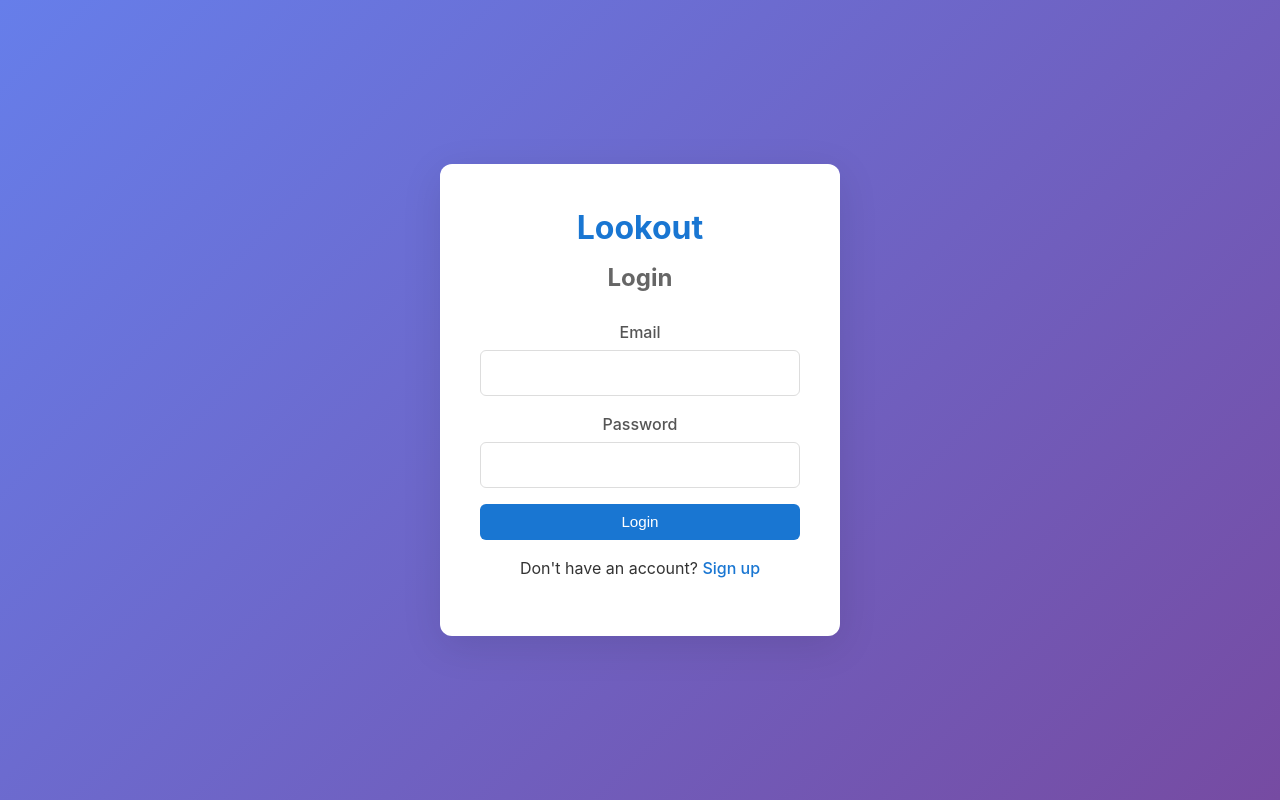
Scenario: LoginPage › should display generic error message when no detail provided
The image size is (1280, 800).
Type "test@example.com" into the field labelled "Email" at (640, 373), box [480,350,800,396]
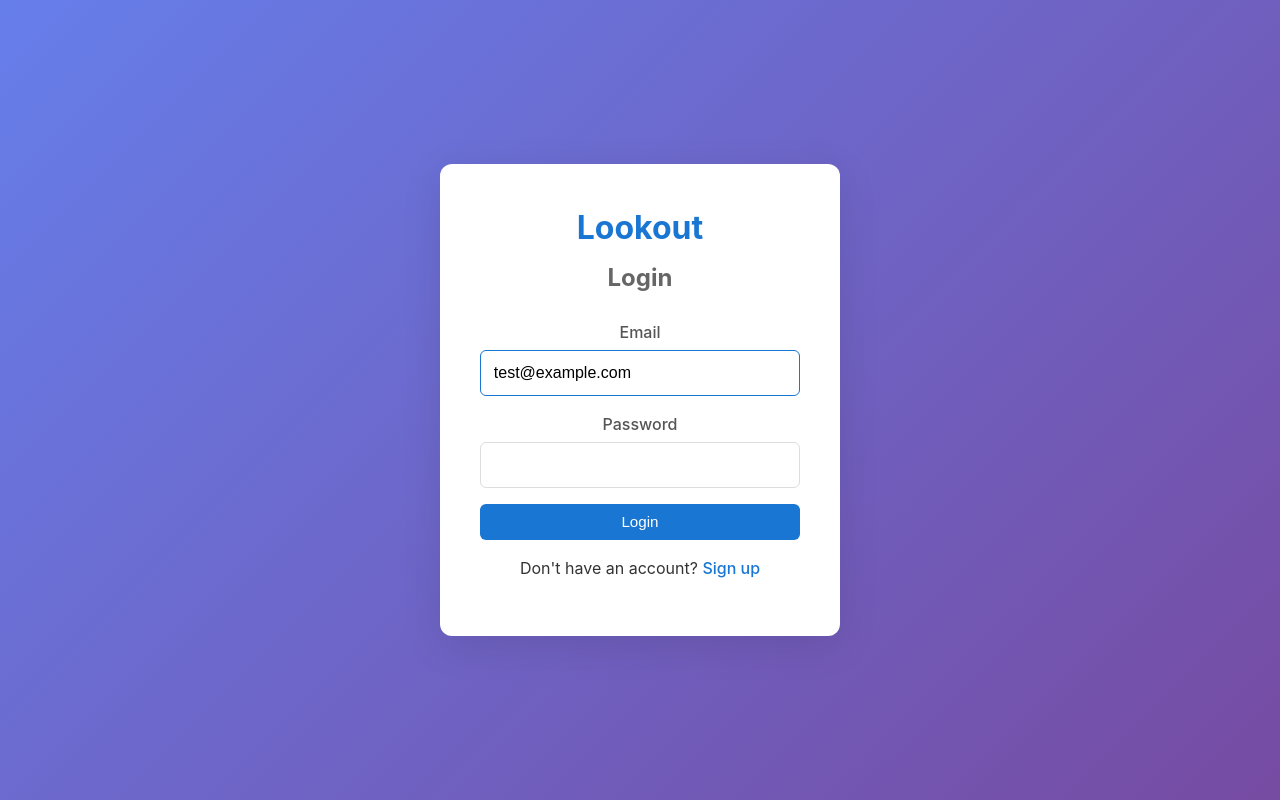
Type "password123" into the password field labelled "Password" at (640, 465), box [480,442,800,488]
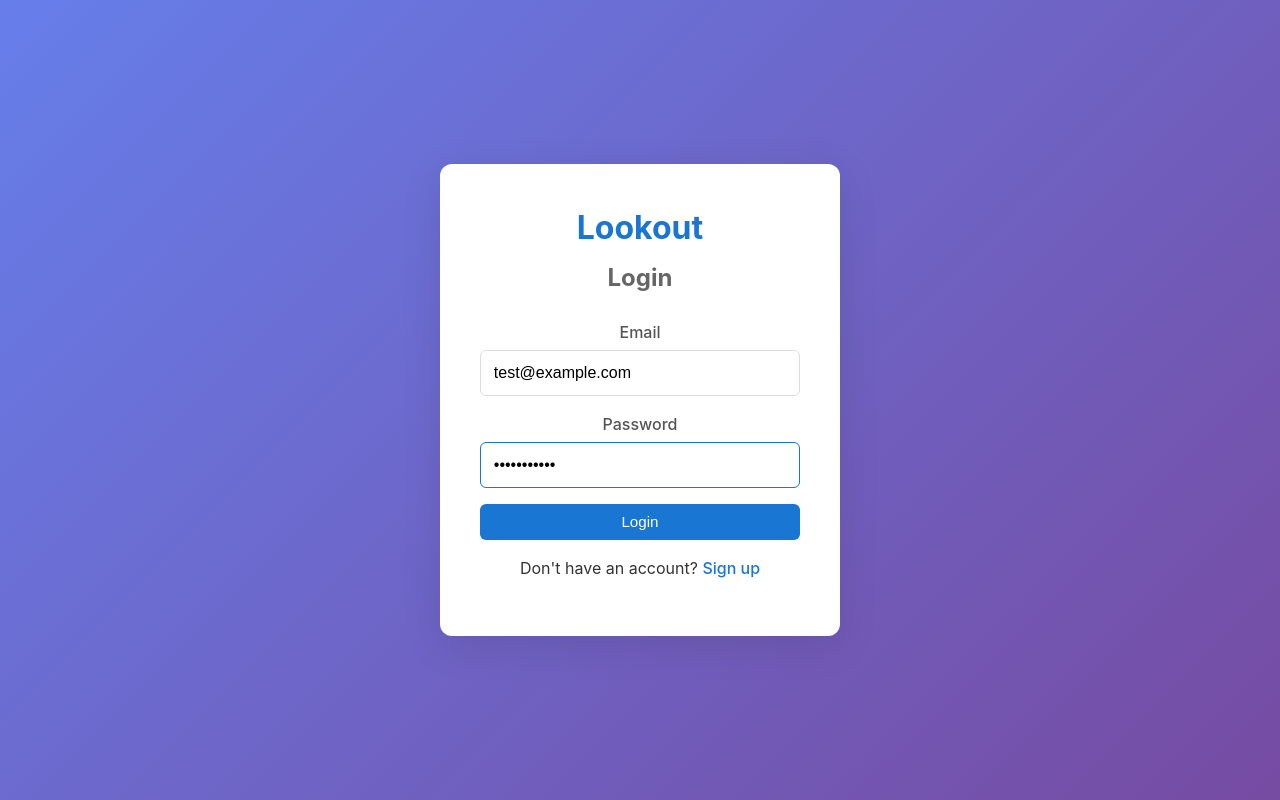
Click the button "Login" at (640, 522), box [480,504,800,540]
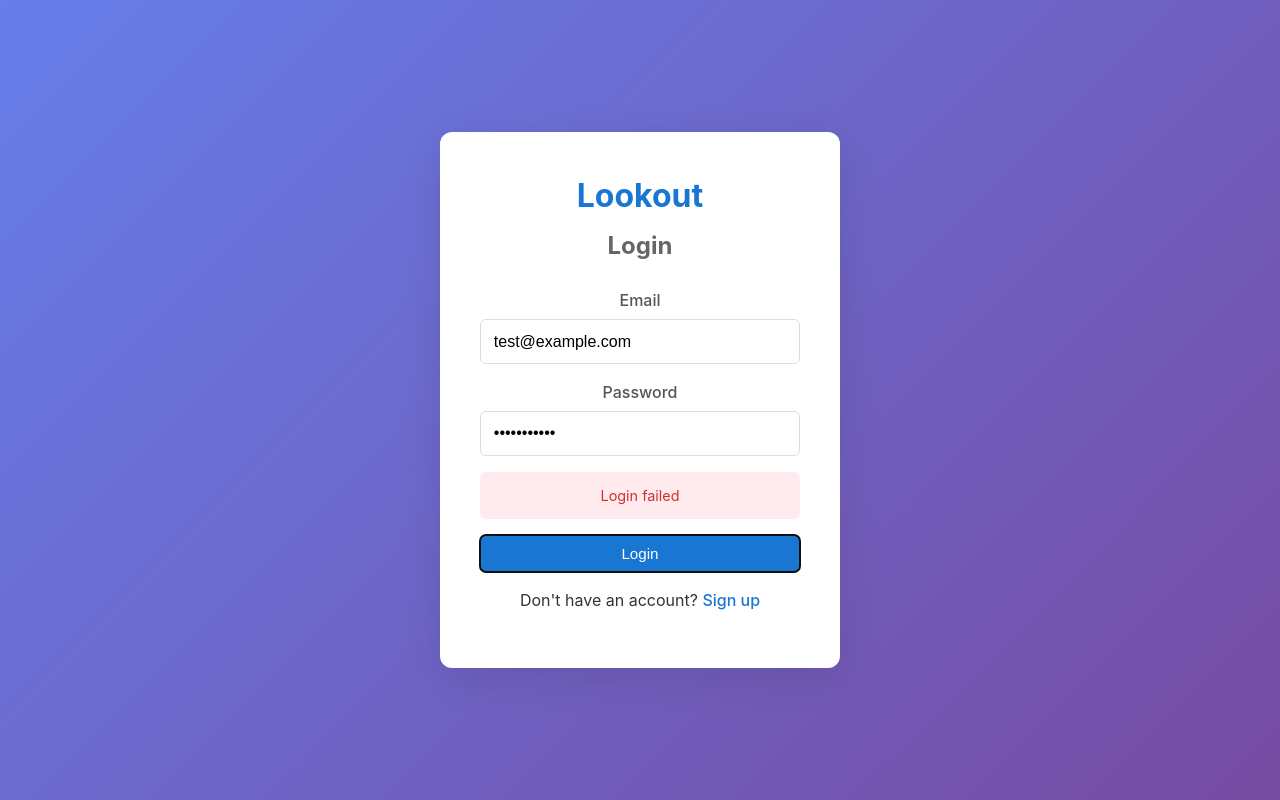
Check: the text "Login failed" is shown, box [480,472,800,520]
